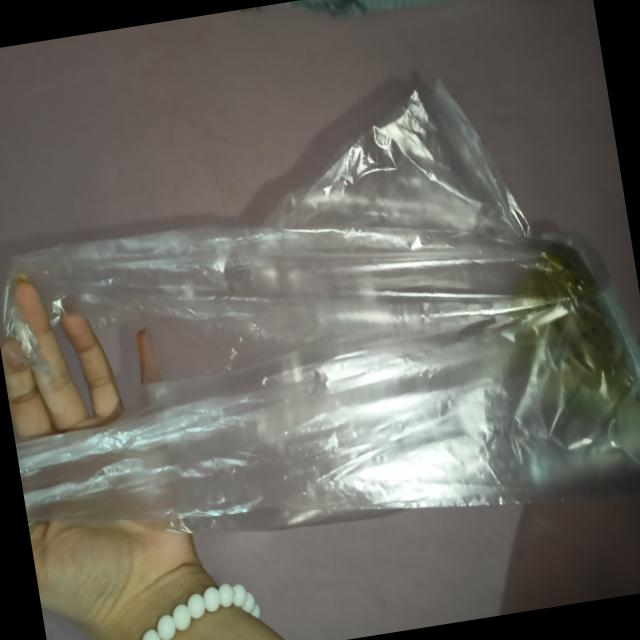plastic_bag: (120, 136, 640, 560)
